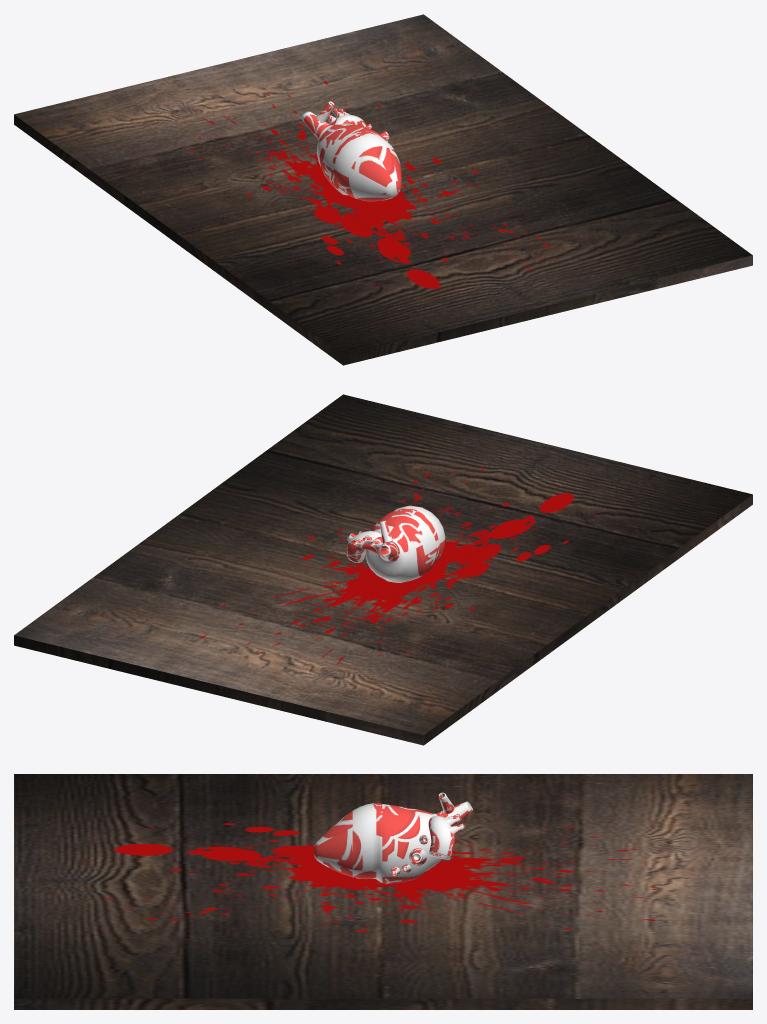
The model's file is Heart.FBX.
3 views of the same model, one above another, from view 1: azimuth 30°, elevation 25°; view 2: azimuth 150°, elevation 25°; view 3: azimuth 270°, elevation 25° (orthographic). The views are drawn at different scales.
Visible parts, largest first — view 1: Table, Heart; view 2: Table, Heart; view 3: Table, Heart.
Boxes of the visible parts, bbox=[...] form: Table: bbox=[14, 14, 752, 365]; Heart: bbox=[300, 101, 401, 201]; Table: bbox=[14, 394, 752, 745]; Heart: bbox=[346, 505, 445, 582]; Table: bbox=[14, 774, 752, 1009]; Heart: bbox=[314, 792, 472, 883].
Size of the model in its own units: 3671 by 687 by 5109.
